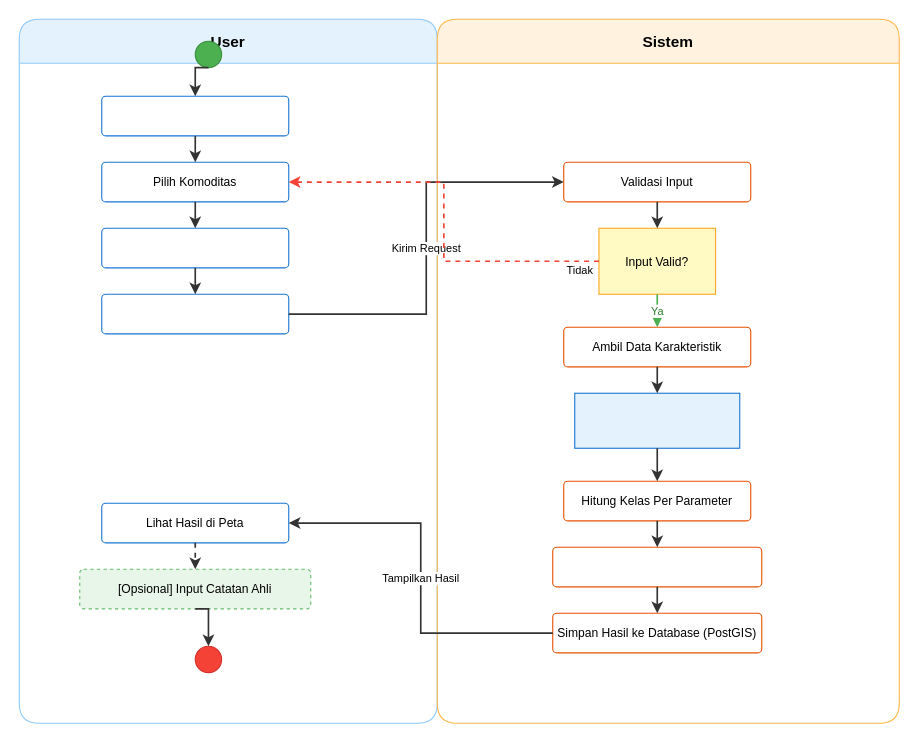
Some shapes in this 919 by 743 pixel diagram are drawn without their labels. Each missing label, with the centre of its shape:
Klik Tombol Analisis: (x=195, y=313)
Login ke Sistem: (x=195, y=115)
Pilih Layer Spasial: (x=195, y=247)
Tentukan Kelas Overall (Minimum): (x=657, y=566)
Untuk Setiap Fitur dalam Layer: (x=657, y=420)
